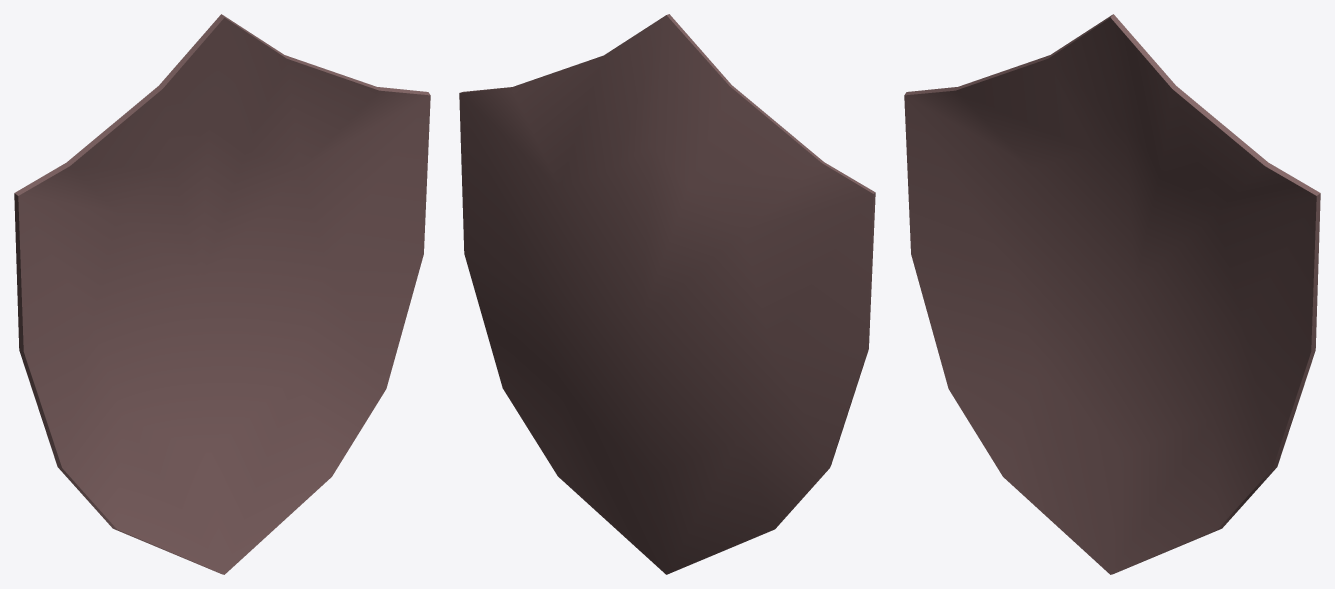
File: CoatOfArms.fbx
3 renders of one model, left to right at view 1: azimuth 30°, elevation 25°; view 2: azimuth 150°, elevation 25°; view 3: azimuth 330°, elevation 25°, orthographic.
Parts seen in each view (by area): view 1: CoatOfArms; view 2: CoatOfArms; view 3: CoatOfArms.
Boxes of the visible parts, bbox=[...] form: CoatOfArms: bbox=[14, 14, 430, 574]; CoatOfArms: bbox=[459, 14, 875, 574]; CoatOfArms: bbox=[904, 14, 1320, 574].
Bounding box in the file's own units: 2.27 × 2.93 × 0.264.
